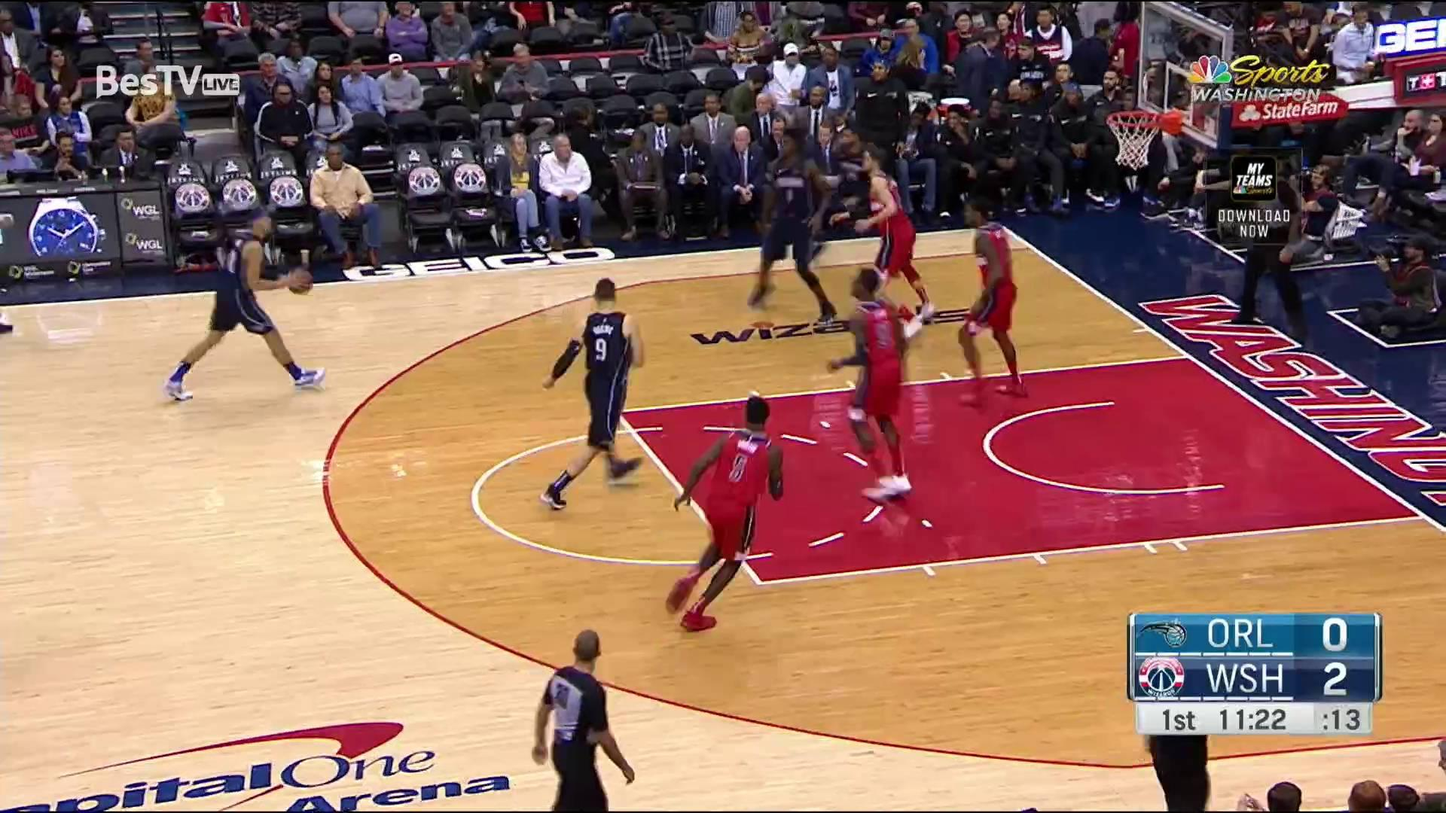basketball: (289, 263, 312, 293), (227, 9, 234, 12)
